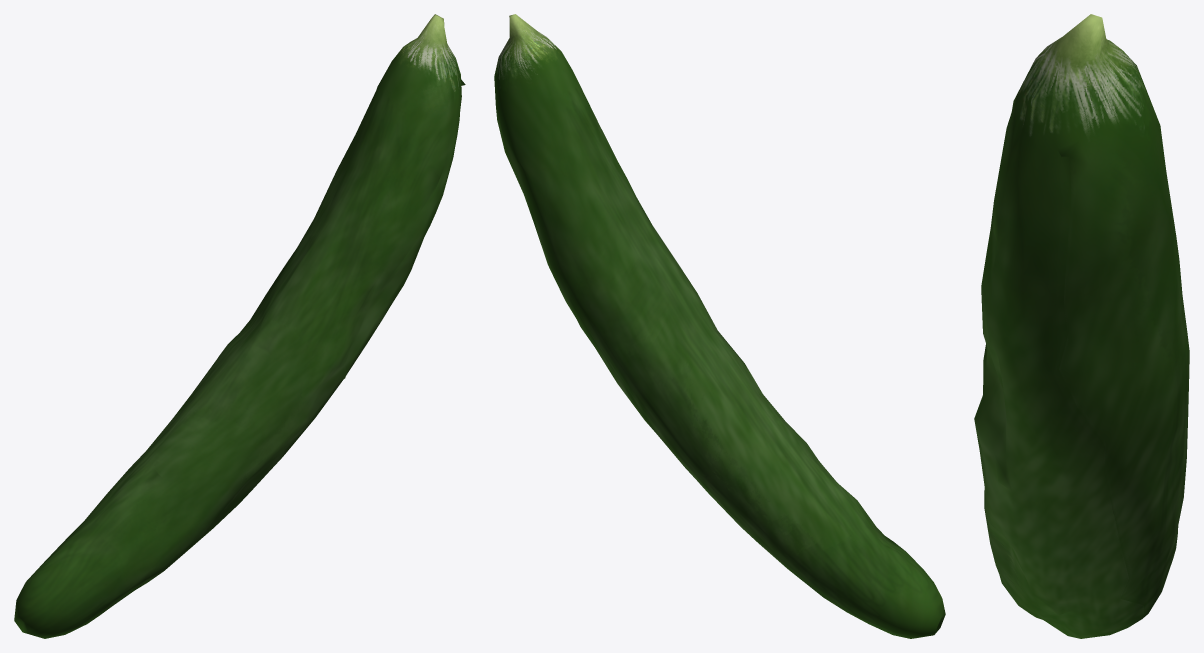
Rendered from きゅうり.fbx.
3 views of the same model, side by side, from view 1: azimuth 30°, elevation 25°; view 2: azimuth 150°, elevation 25°; view 3: azimuth 270°, elevation 25° (orthographic). The views are drawn at different scales.
Visible parts, largest first — view 1: cucumber; view 2: cucumber; view 3: cucumber.
Part boxes in pixels (x1,y1,x2,y2): cucumber: (14,14,465,638); cucumber: (494,14,945,638); cucumber: (974,14,1189,638).
Size of the model in its own units: 2.74 by 3.1 by 0.6405.
1 material, 1 textured.
